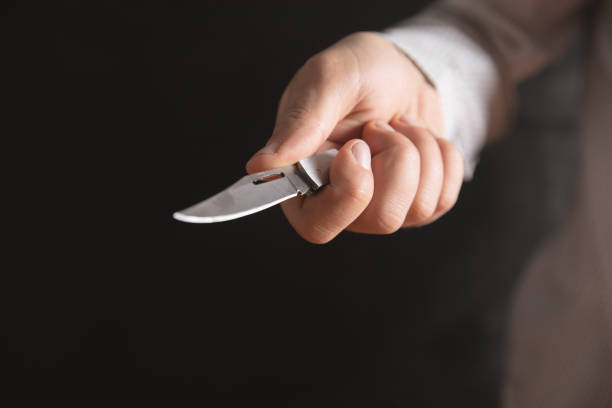knife: (170, 146, 342, 225)
